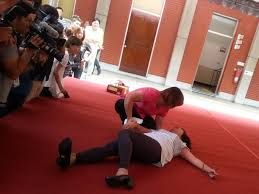10+: (1, 1, 222, 191)
down: (49, 114, 221, 192)
